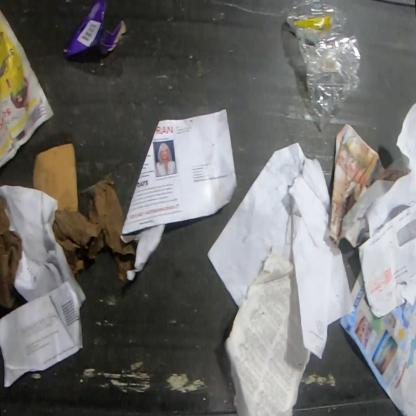cardboard: (34, 142, 136, 279), (64, 0, 127, 56), (0, 195, 22, 308)
rigid_plastic: (286, 0, 362, 132)
